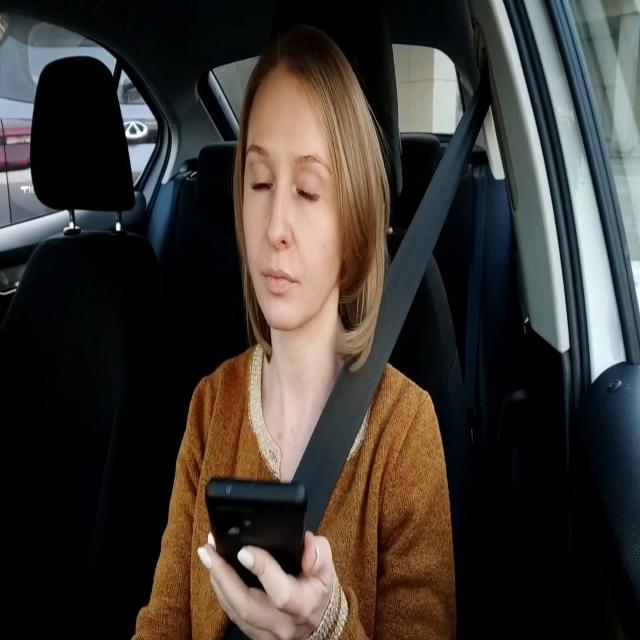phone: (204, 472, 308, 594)
